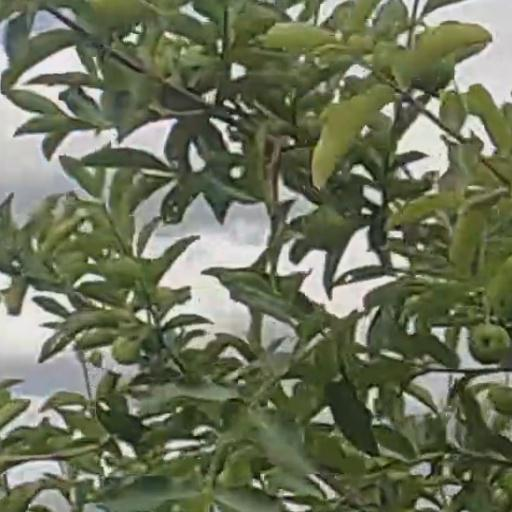acerola: (468, 323, 511, 365)
